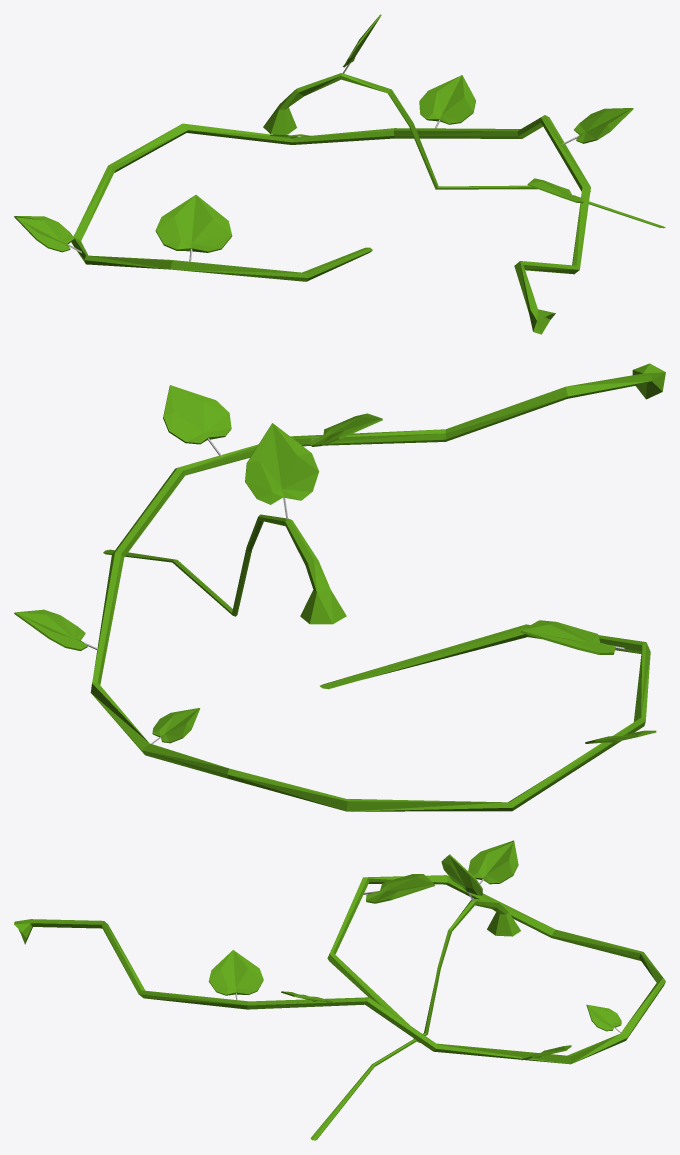
Rendered from Pumpkin.fbx.
3 renders of one model, top to bottom at view 1: azimuth 30°, elevation 25°; view 2: azimuth 150°, elevation 25°; view 3: azimuth 270°, elevation 25°, orthographic. The views are drawn at different scales.
Parts seen in each view (by area): view 1: pumpkin321; view 2: pumpkin321; view 3: pumpkin321.
Boxes of the visible parts, x1,y1,x2,y2 form: pumpkin321: [14, 14, 665, 334]; pumpkin321: [14, 363, 665, 811]; pumpkin321: [14, 840, 665, 1140].
Size of the model in its own units: 130 by 50.12 by 148.
